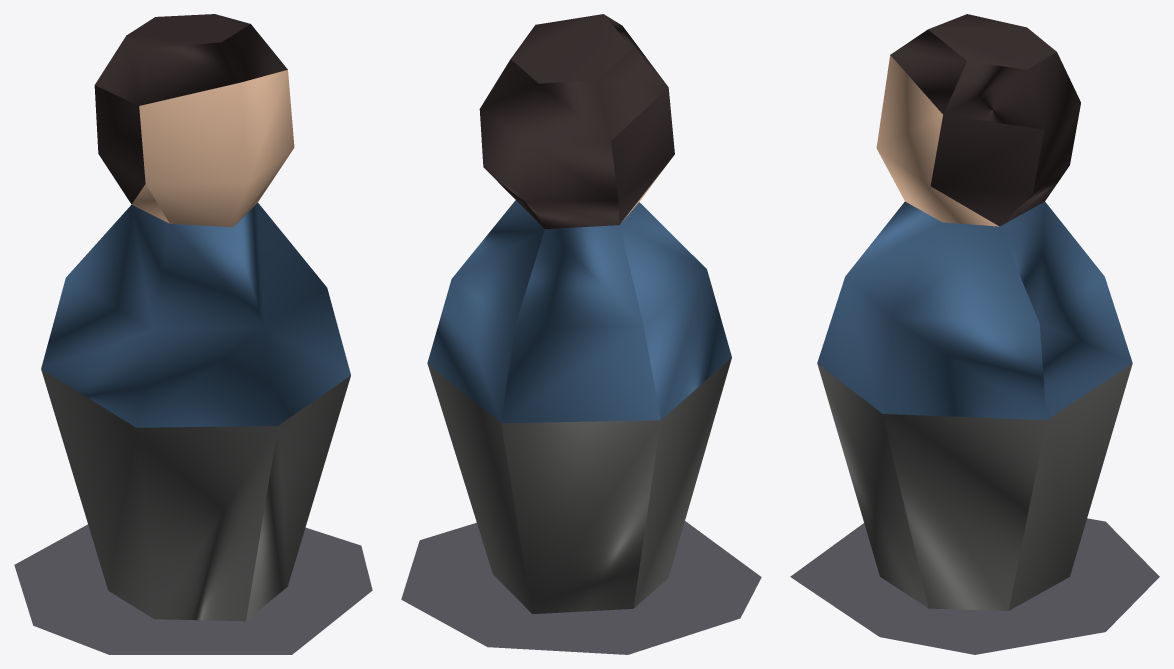
Rendered from man_1.FBX.
3 renders of one model, left to right at view 1: azimuth 30°, elevation 25°; view 2: azimuth 150°, elevation 25°; view 3: azimuth 270°, elevation 25°, orthographic. The views are drawn at different scales.
Parts seen in each view (by area): view 1: man_1; view 2: man_1; view 3: man_1.
Boxes of the visible parts, box(x1,y1,x2,y2) form: man_1: box(14, 14, 372, 654); man_1: box(401, 14, 761, 654); man_1: box(790, 14, 1159, 654).
Bounding box in the file's own units: 0.7702 × 1.26 × 0.7702.
